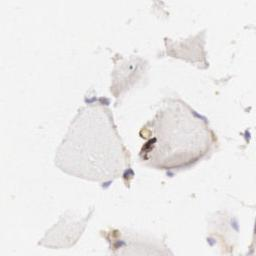nucleus: (190, 108, 209, 124), (230, 215, 241, 233), (122, 167, 136, 178), (83, 95, 98, 105), (99, 180, 115, 189), (206, 236, 217, 246), (244, 128, 251, 143), (101, 98, 111, 106), (164, 170, 175, 177), (254, 219, 256, 233), (120, 242, 126, 245)
positive_cell: (109, 227, 129, 253), (121, 167, 135, 189)
